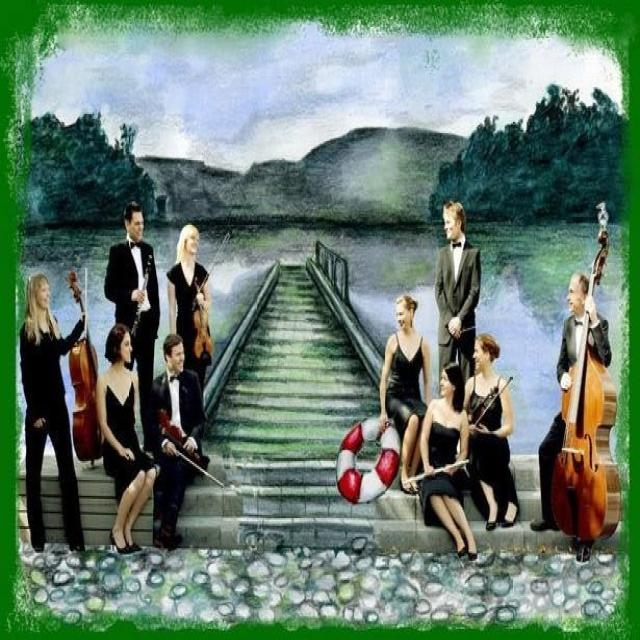cello: (66, 268, 103, 465)
clarinet: (127, 248, 156, 341)
violin: (154, 411, 202, 464), (190, 274, 216, 362), (470, 391, 500, 423)
